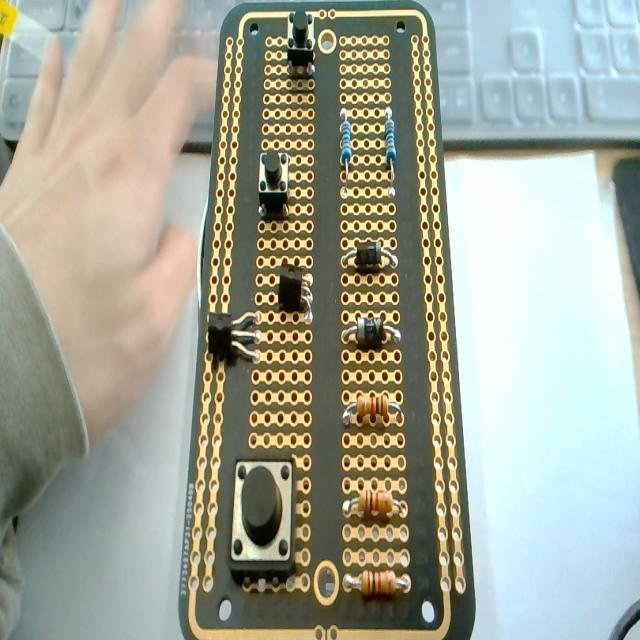diode: (343, 317, 400, 349), (342, 241, 397, 272)
resistor: (343, 486, 406, 520), (343, 397, 403, 429), (347, 570, 409, 598), (339, 107, 352, 176), (384, 108, 396, 171)
switch: (229, 458, 295, 574), (258, 150, 291, 220), (286, 11, 315, 78)
transistor: (206, 311, 262, 364), (270, 263, 315, 323)
